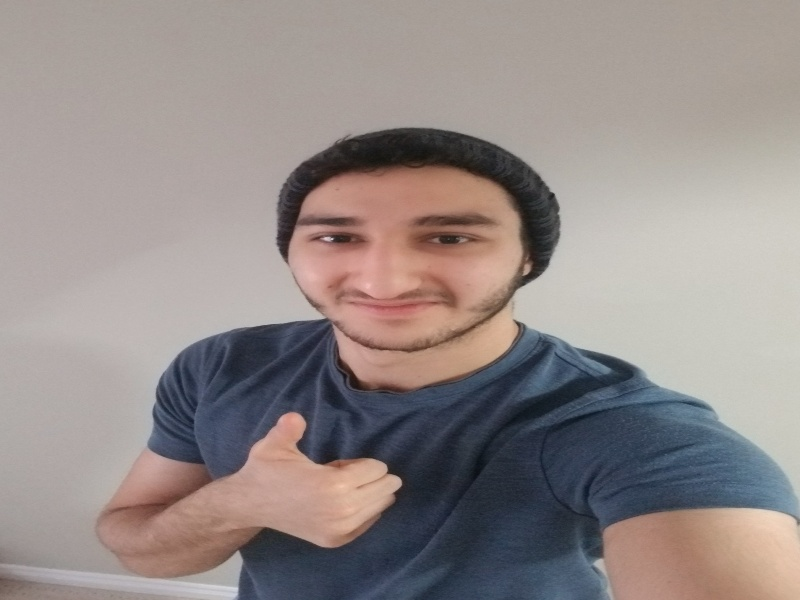smile: (292, 167, 526, 351)
thumbup: (244, 412, 405, 562)
